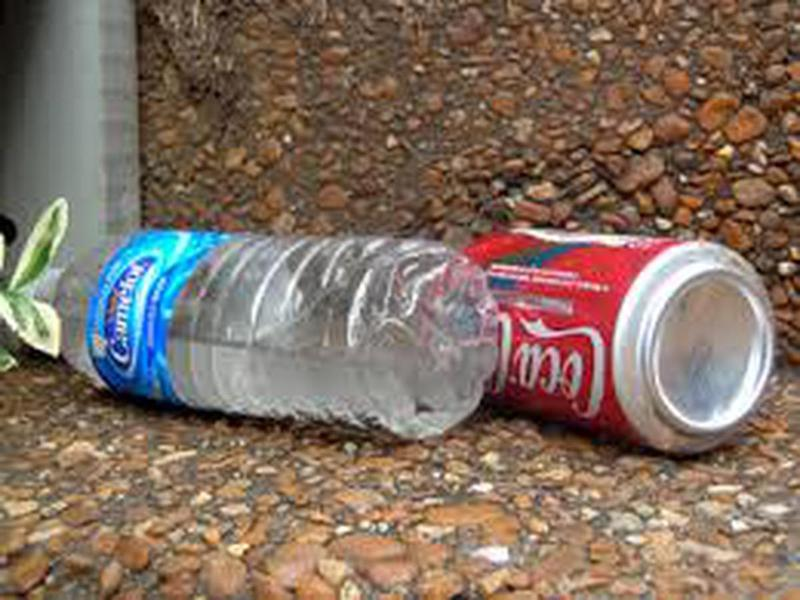bottle: (30, 230, 497, 445)
can: (470, 222, 779, 459)
